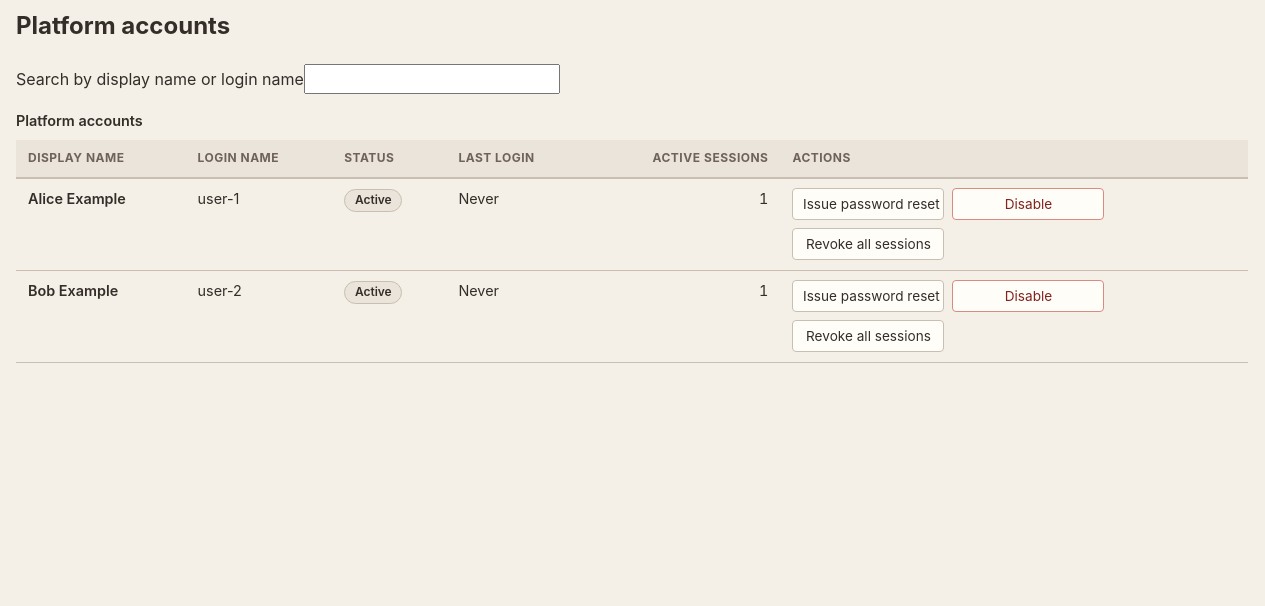
Test: AdminAccountsPage password-reset link › a failed second issuance does not retain the first token, and can be retried
Expected: the text "Alice Example" is shown, [28,190,126,207]
Click the button "Issue password reset" in the row of "Alice Example": (868, 204) [792,188,944,220]
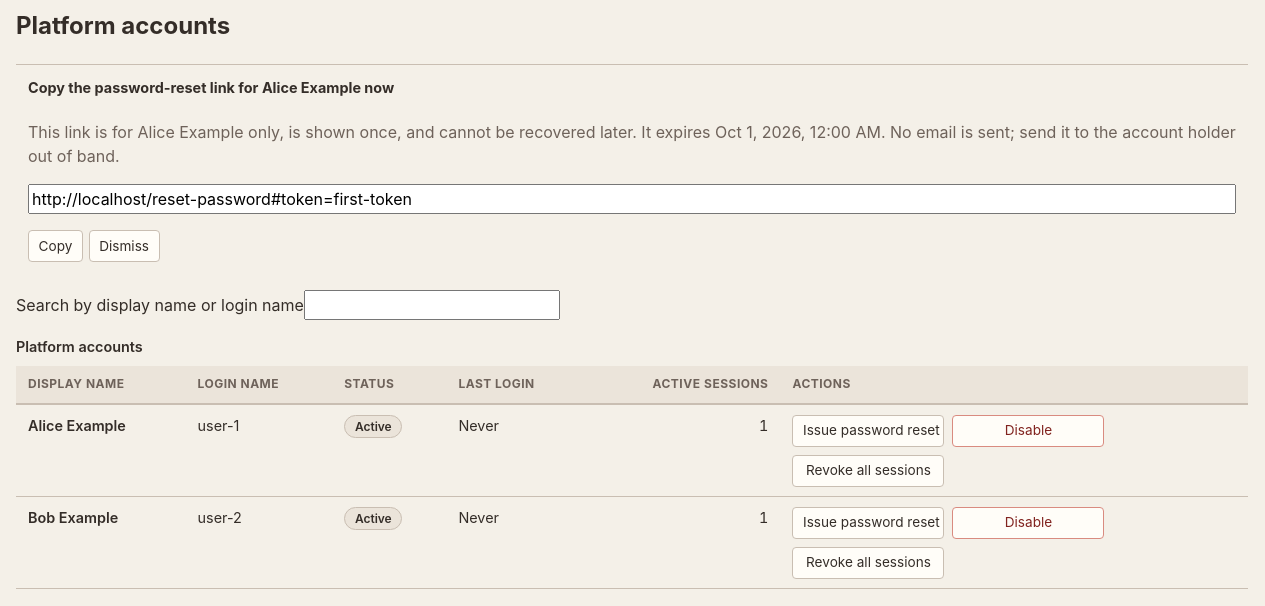
Expected: the text "Alice Example" is shown, [28,416,126,434]
Expected: the field named "Password-reset link" is shown, [28,184,1236,214]
Click the button "Issue password reset" in the row of "user-1": (868, 430) [792,414,944,446]
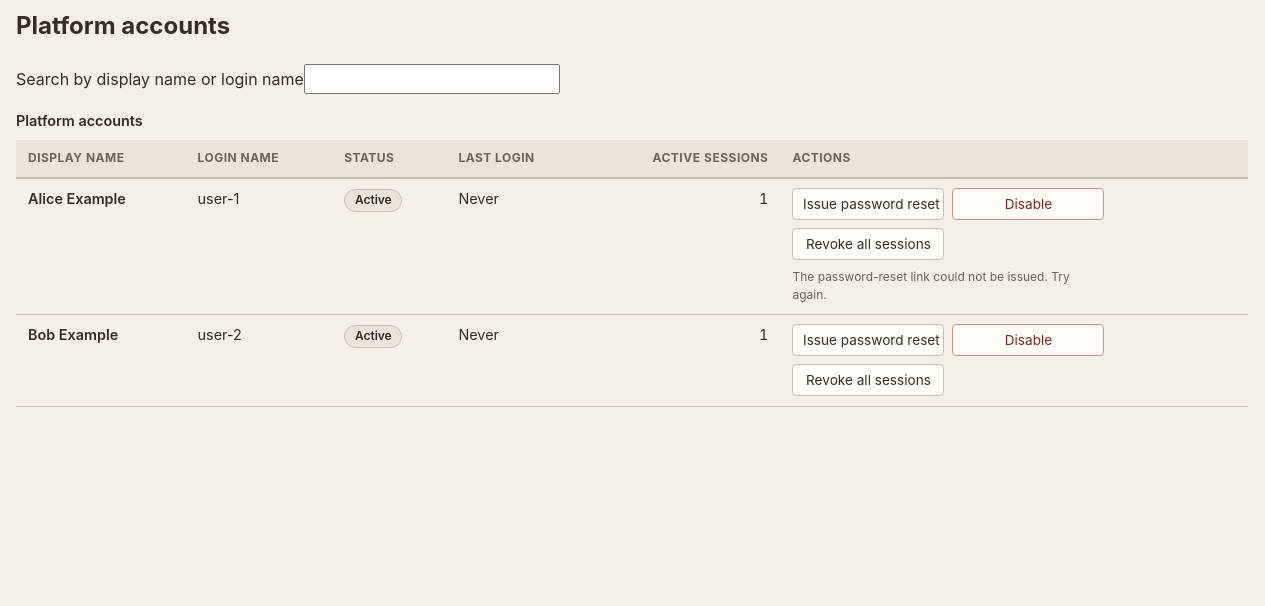
Expected: the text "first-token" is not shown
Click the button "Issue password reset" in the row of "Alice Example": (868, 204) [792,188,944,220]
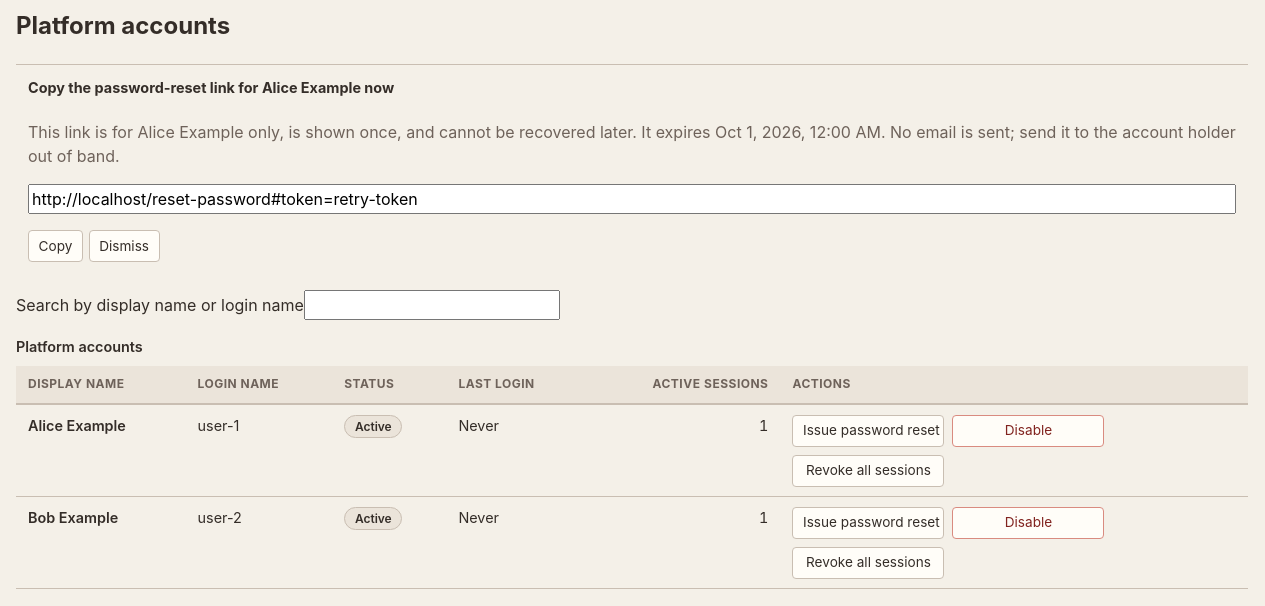
Expected: the field named "Password-reset link" is shown, [28,184,1236,214]
